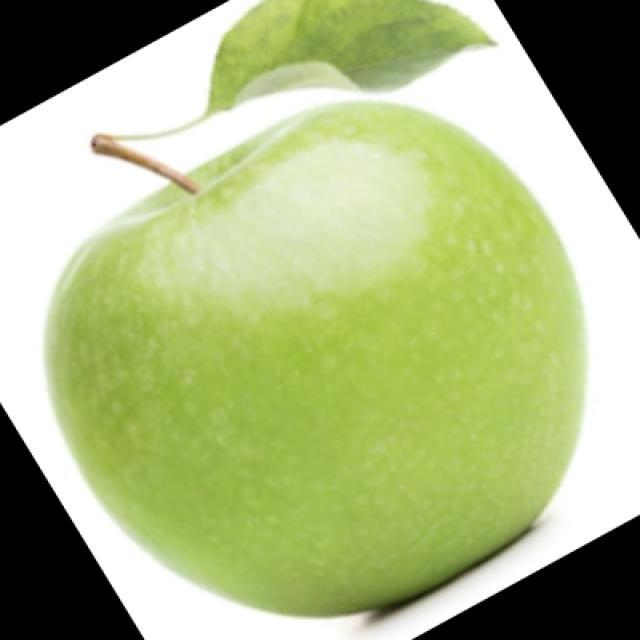Fresh Apple: (63, 95, 577, 640)
